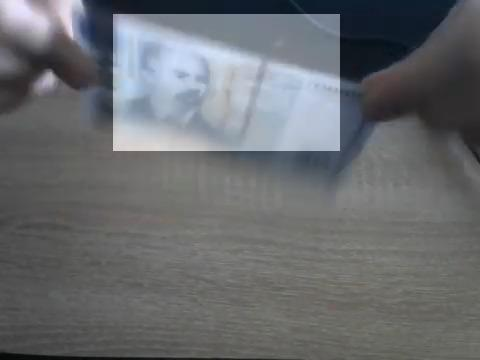20leva: (113, 14, 340, 151)
